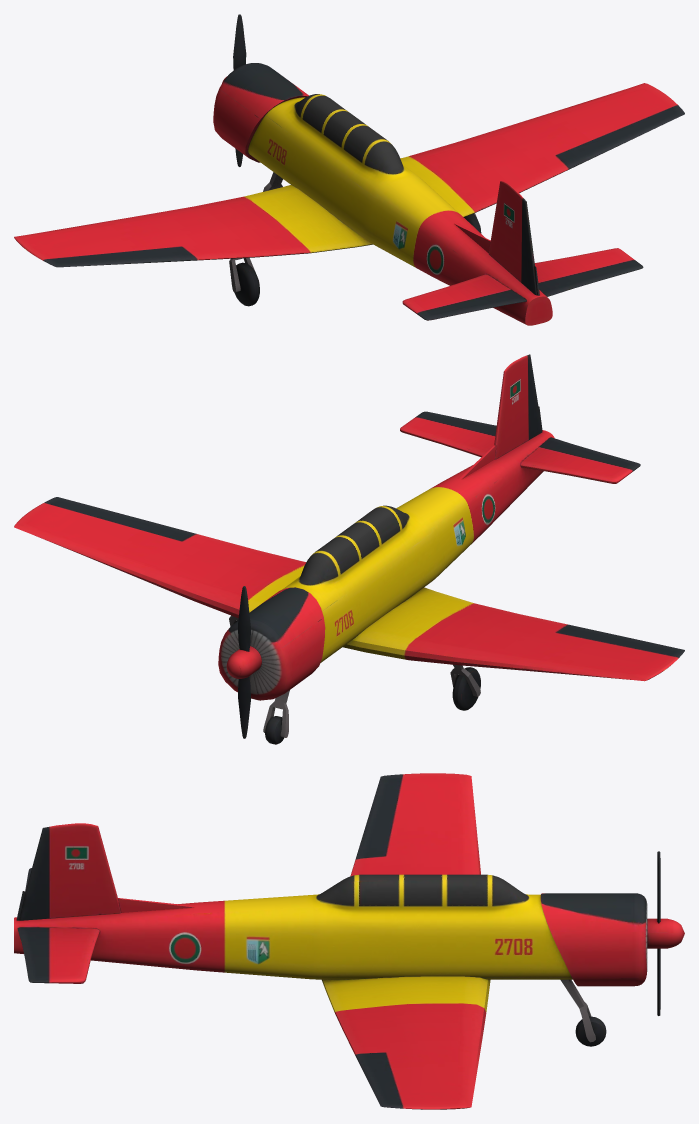
Rendered from Airplane_VGJR_PT6.glb.
3 views of the same model, one above another, from view 1: azimuth 30°, elevation 25°; view 2: azimuth 150°, elevation 25°; view 3: azimuth 270°, elevation 25° (orthographic). The views are drawn at different scales.
Parts seen in each view (by area): view 1: Body, Landing_Wheel, Propeller; view 2: Body, Landing_Wheel, Propeller; view 3: Body, Propeller, Landing_Wheel.
Part boxes in pixels (x1,y1,x2,y2): Body: [14, 63, 684, 325]; Landing_Wheel: [229, 172, 481, 306]; Propeller: [222, 14, 246, 166]; Body: [14, 354, 684, 700]; Landing_Wheel: [229, 615, 480, 744]; Propeller: [226, 586, 261, 738]; Body: [14, 773, 647, 1109]; Propeller: [647, 851, 684, 1015]; Landing_Wheel: [560, 979, 606, 1046].
Size of the model in its own units: 1.02 by 0.3158 by 0.8633.
1 material, 1 textured.
